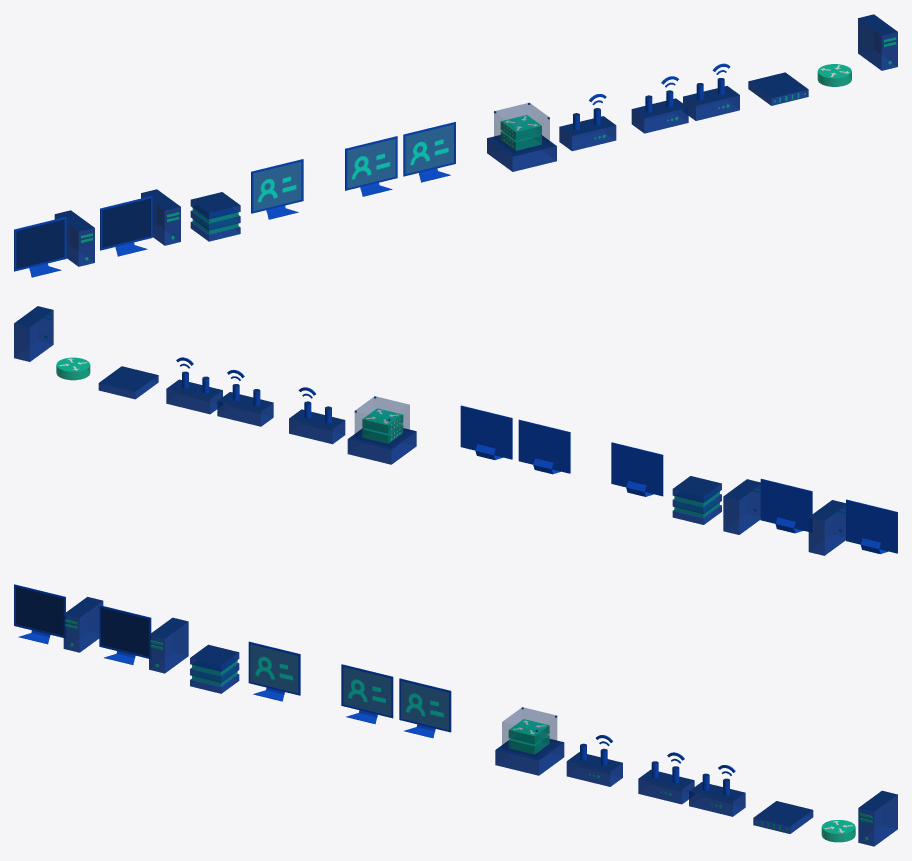
3 renders of one model, top to bottom at view 1: azimuth 30°, elevation 25°; view 2: azimuth 150°, elevation 25°; view 3: azimuth 330°, elevation 25°, orthographic.
Visible parts, largest first — view 1: 组105, Box272, 对象392, 对象386, 对象404, 对象405, 对象406, 对象421, Box270, 对象389, 对象400, Box276 (+6 smaller); view 2: 组105, Box272, 对象421, 对象389, 对象400, Box270, Box277, Box276, 对象419, Box278, 对象398, Box263 (+1 smaller); view 3: 组105, Box272, 对象392, 对象405, 对象386, 对象404, 对象406, 对象400, 对象421, 对象389, Box270, Box278 (+4 smaller).
Part boxes in pixels (<box>): 组105: <box>14,122,455,277</box>; Box272: <box>494,103,549,153</box>; 对象392: <box>253,161,301,211</box>; 对象386: <box>16,219,64,268</box>; 对象404: <box>102,198,150,247</box>; 对象405: <box>347,139,395,188</box>; 对象406: <box>405,124,453,173</box>; 对象421: <box>858,18,897,70</box>; Box270: <box>487,138,556,171</box>; 对象389: <box>54,214,94,266</box>; 对象400: <box>141,193,180,245</box>; Box276: <box>559,125,616,151</box>; 组105: <box>460,405,897,554</box>; Box272: <box>355,397,409,446</box>; 对象421: <box>14,310,53,361</box>; 对象389: <box>808,506,845,555</box>; 对象400: <box>723,485,760,534</box>; Box270: <box>347,431,416,464</box>; Box277: <box>217,401,273,426</box>; Box276: <box>289,418,345,444</box>; 对象419: <box>99,366,157,391</box>; Box278: <box>166,388,222,414</box>; 对象398: <box>673,476,721,496</box>; Box263: <box>672,494,721,513</box>; 组105: <box>14,584,451,738</box>; Box272: <box>502,708,556,757</box>; 对象392: <box>250,644,298,692</box>; 对象405: <box>343,667,391,715</box>; 对象386: <box>16,587,63,635</box>; 对象404: <box>101,607,148,656</box>; 对象406: <box>401,681,448,729</box>; 对象400: <box>149,621,188,673</box>; 对象421: <box>858,795,897,846</box>; 对象389: <box>63,601,103,652</box>; Box270: <box>495,742,564,775</box>; Box278: <box>689,791,745,816</box>.
Bounding box in the file's own units: 13304 × 841 × 733.
8 materials, 1 textured.
